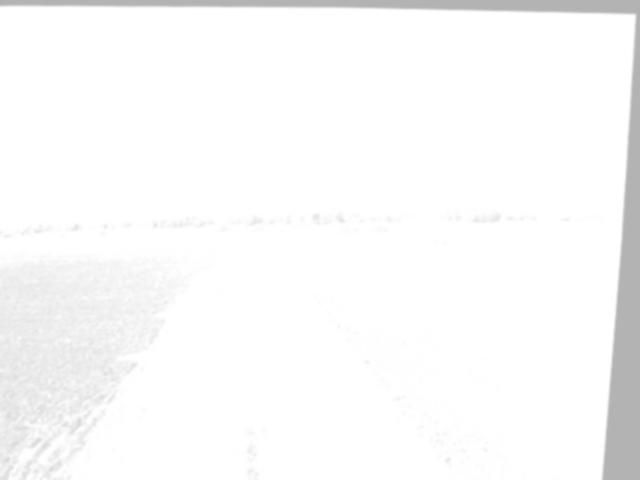hedef: (122, 341, 178, 371)
